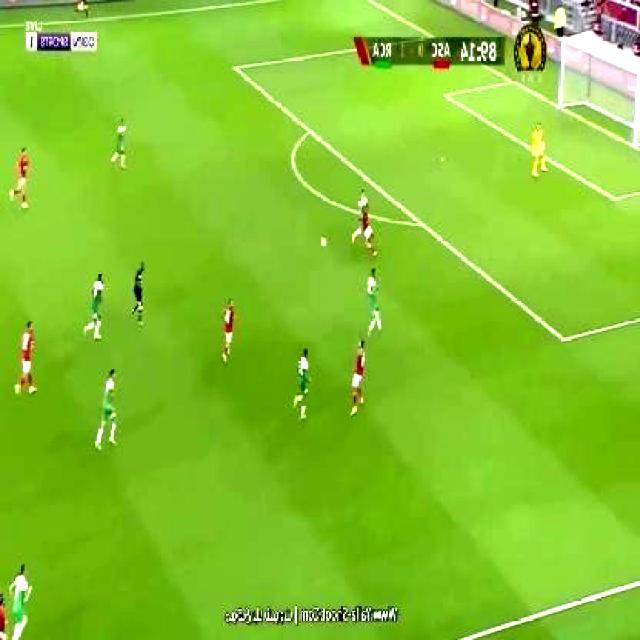bigarea_bottom_inner: (556, 326, 572, 352)
bigarea_top_inner: (232, 60, 243, 75)
bottom_arc_area_intersection: (417, 217, 428, 232)
smallarea_bottom_inner: (608, 186, 623, 209)
smallarea_top_inner: (442, 88, 451, 101)
smallarea_top_outter: (508, 75, 518, 88)
top_arc_area_intersection: (306, 123, 316, 137)
